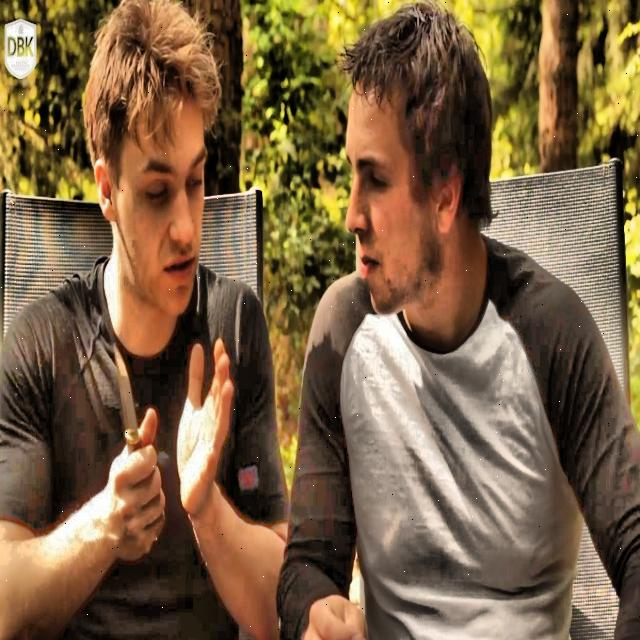knife: (112, 348, 142, 458)
